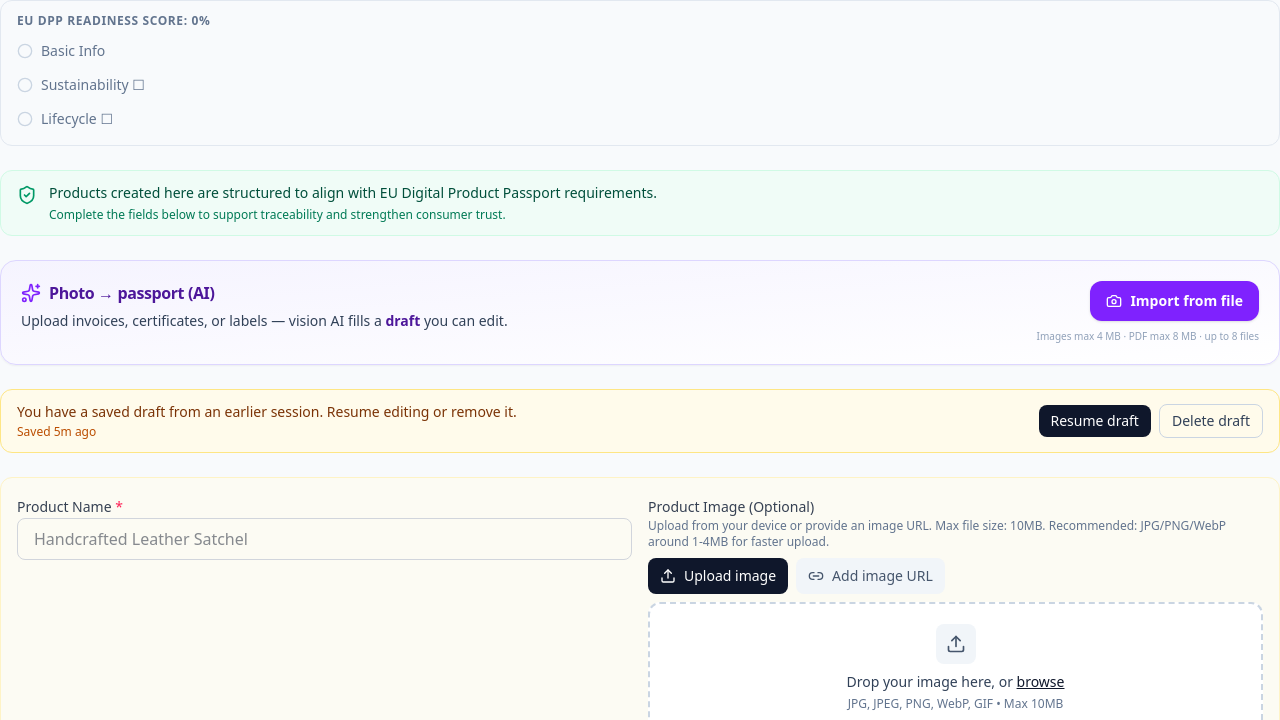
Scenario: ProductForm › deletes pending draft when delete action is clicked
Click the button "Delete draft". click: click(1211, 421)
box: [1159,404,1263,438]
(page scrolled)
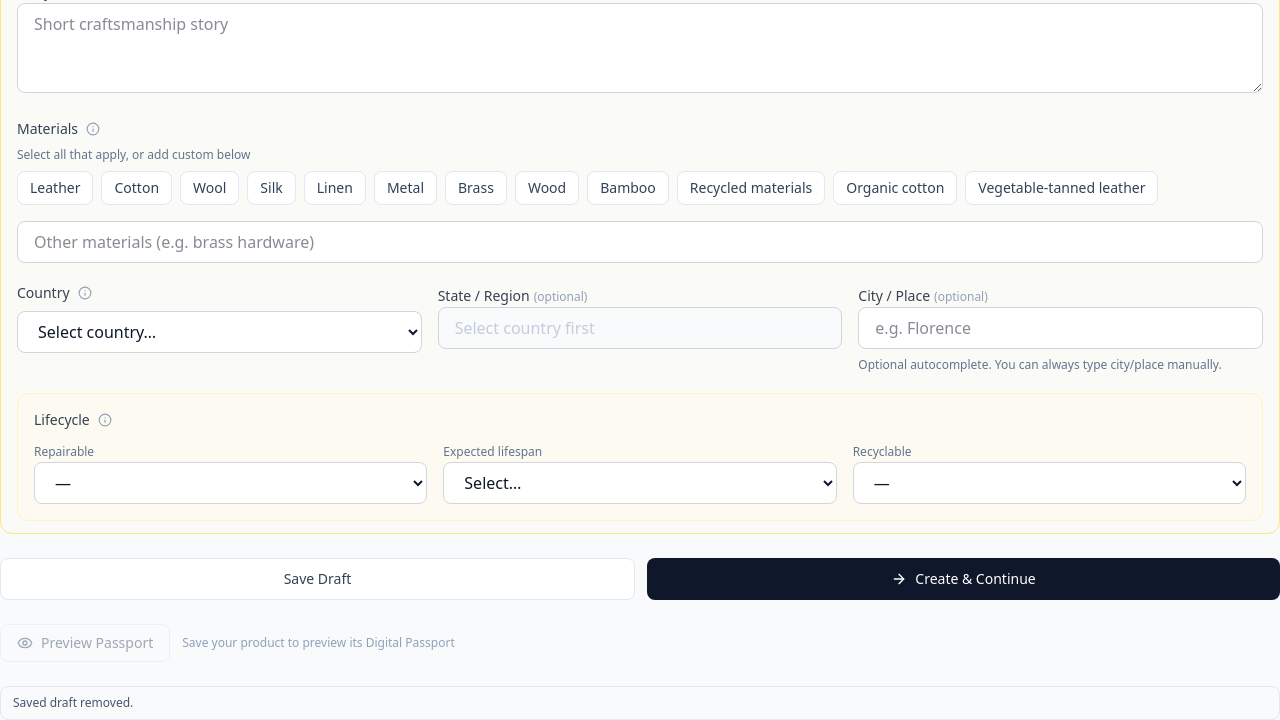
Now the text "Saved draft removed." is shown, box [0,686,1279,719]
